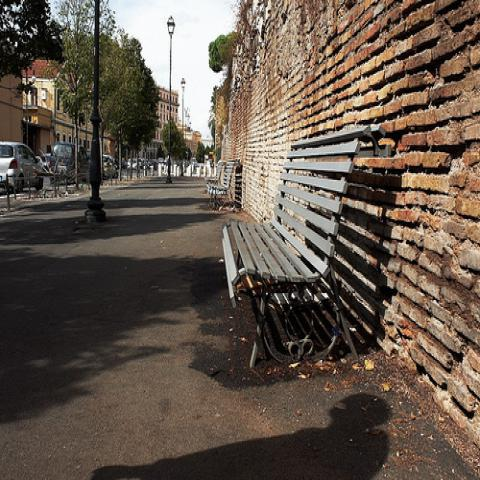car: (0, 142, 45, 193), (49, 143, 92, 184), (103, 155, 119, 180), (127, 157, 140, 173), (155, 158, 164, 168)
